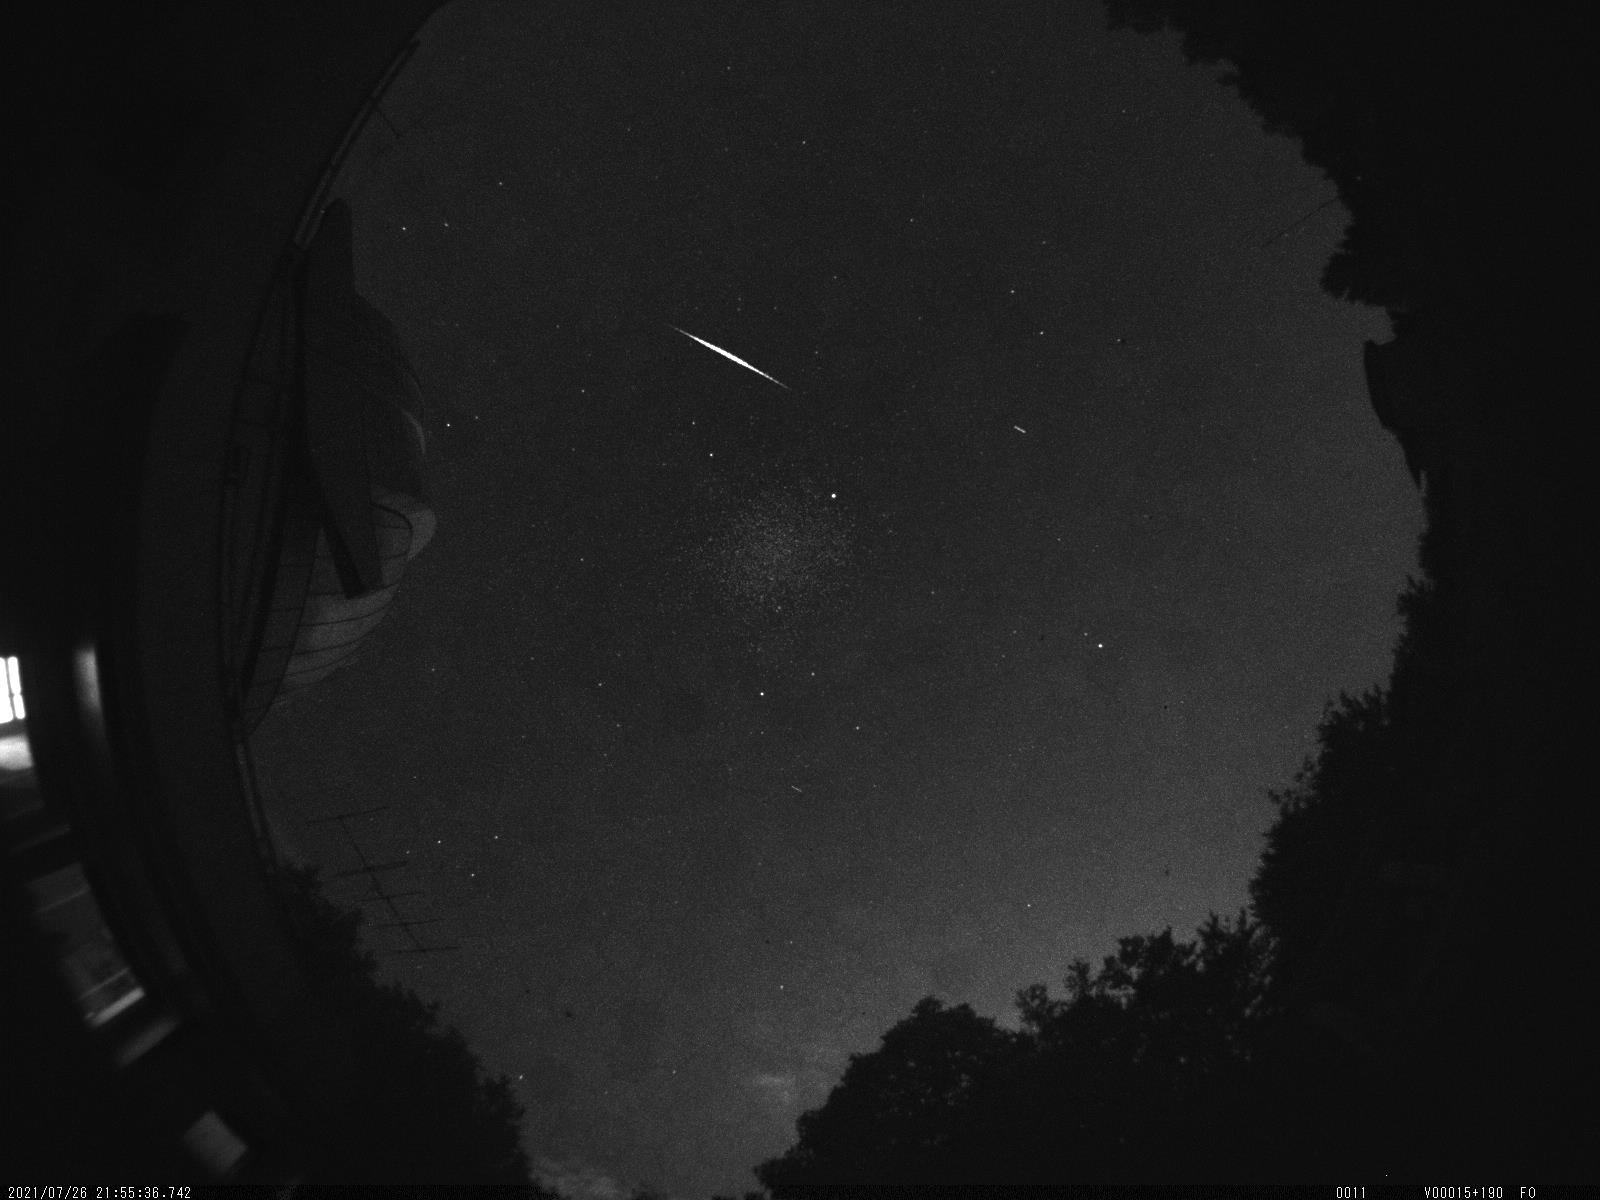Meteor: (656, 313, 809, 406)
